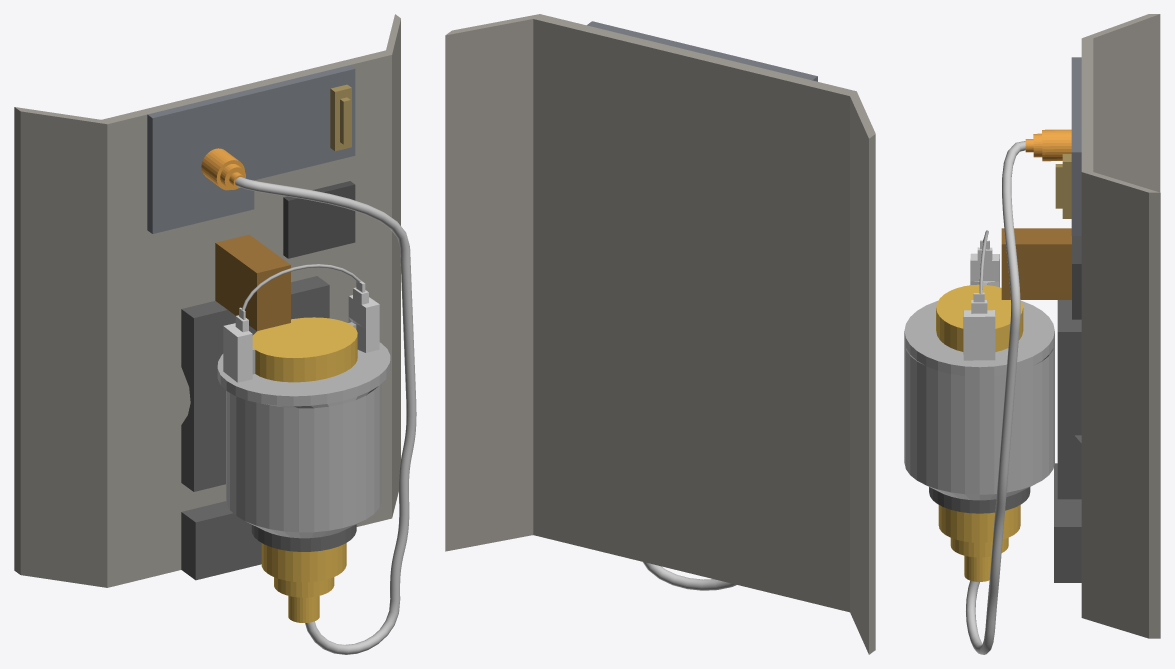
File: Gamma_Ray.gltf
The picture shows the model from 3 angles, left to right: view 1: azimuth 30°, elevation 25°; view 2: azimuth 150°, elevation 25°; view 3: azimuth 270°, elevation 25°; orthographic projection. The views are drawn at different scales.
Parts seen in each view (by area): view 1: Cube, Cylinder.002, BezierCurve.004, Cylinder.003; view 2: Cube, BezierCurve.004; view 3: Cube, Cylinder.002, BezierCurve.004, Cylinder.003.
Part boxes in pixels (box(x1,y1,x2,y2)): Cube: box(14, 14, 400, 587); Cylinder.002: box(217, 281, 390, 622); BezierCurve.004: box(235, 177, 416, 654); Cylinder.003: box(201, 148, 245, 190); Cube: box(445, 14, 875, 654); BezierCurve.004: box(643, 562, 736, 590); Cube: box(1001, 14, 1160, 638); Cylinder.002: box(904, 240, 1054, 581); BezierCurve.004: box(966, 141, 1025, 654); Cylinder.003: box(1025, 129, 1071, 161).
Bounding box in the file's own units: 7.73 × 10.41 × 4.68.
